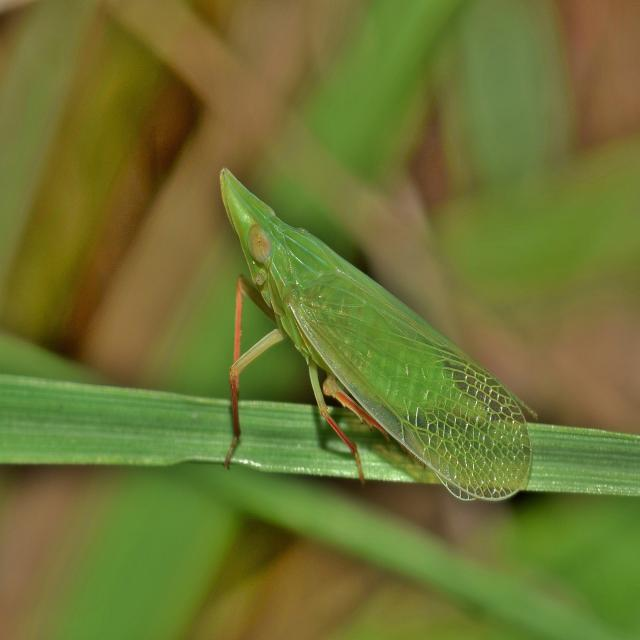wereng pada daun padi: (217, 164, 539, 504)
